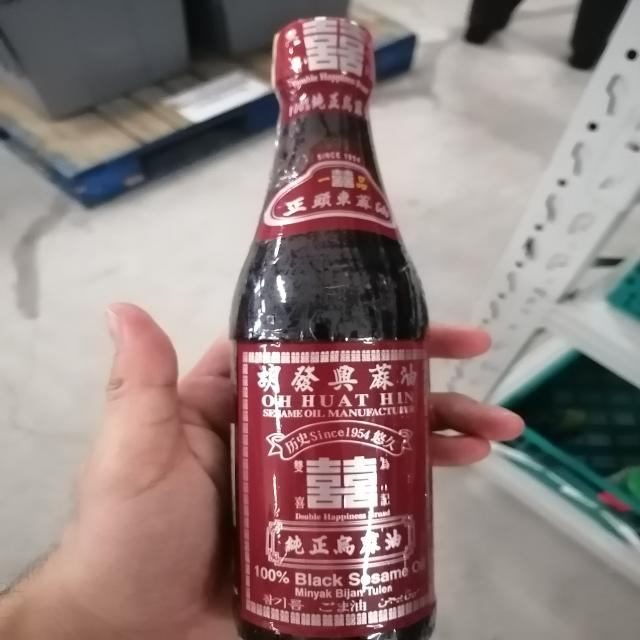object_name: (217, 21, 436, 640)
